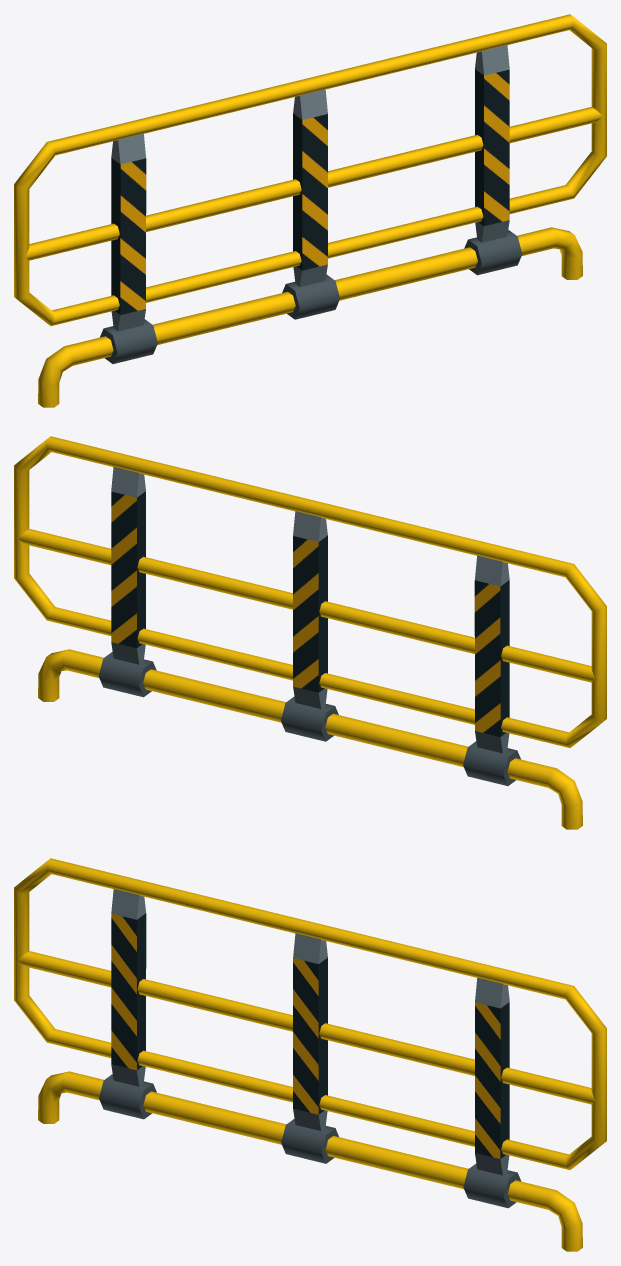
Rendered from Fence_type_C_003.glb.
The picture shows the model from 3 angles, top to bottom: view 1: azimuth 30°, elevation 25°; view 2: azimuth 150°, elevation 25°; view 3: azimuth 330°, elevation 25°; orthographic projection.
Visible parts, largest first — view 1: Fence_type_C_003; view 2: Fence_type_C_003; view 3: Fence_type_C_003.
Boxes of the visible parts, left/top/right/bottom form: Fence_type_C_003: left=14, top=14, right=606, bottom=407; Fence_type_C_003: left=14, top=436, right=606, bottom=829; Fence_type_C_003: left=14, top=858, right=606, bottom=1251.
Bounding box in the file's own units: 3.37 × 1.42 × 0.1839.
Materials: 1 (1 with a texture image).
